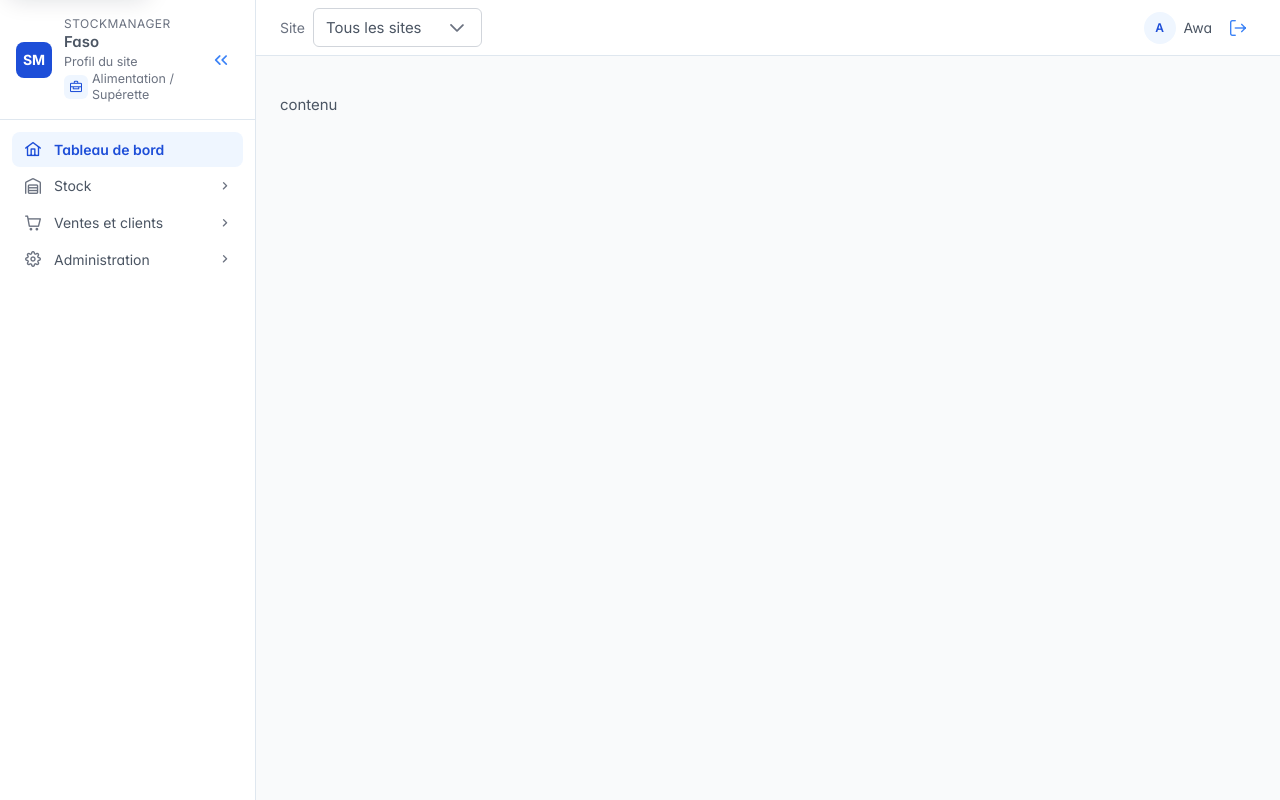
Test: barre latérale par rubriques › 6–7. mode compact et mode développé : bascule en haut de la barre
Click the button named "Réduire le menu".
click(221, 60)  # box [203,42,239,78]
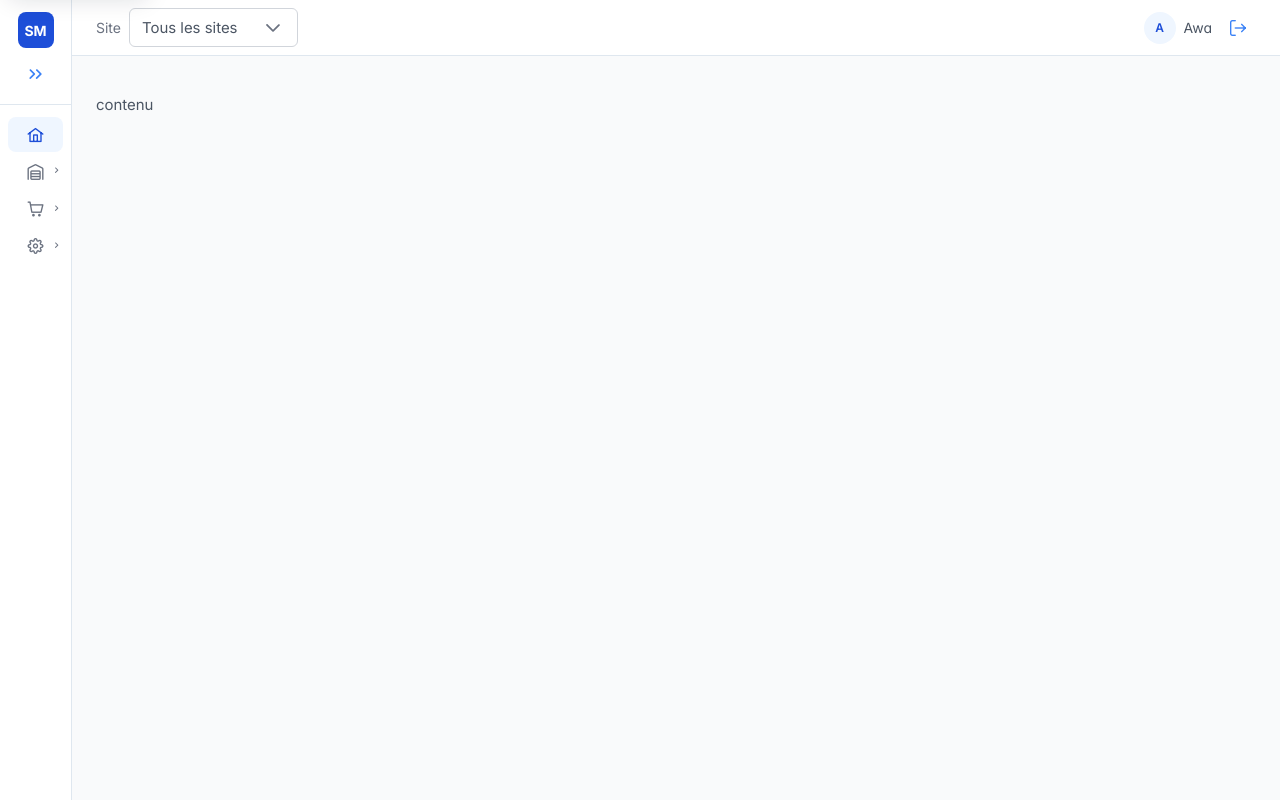
Result: the element with class "sm-shell" has class "sm-sidebar-compact"
Hover over the 2nd list item.
mouse_move(36, 172)  # box [8,154,63,189]
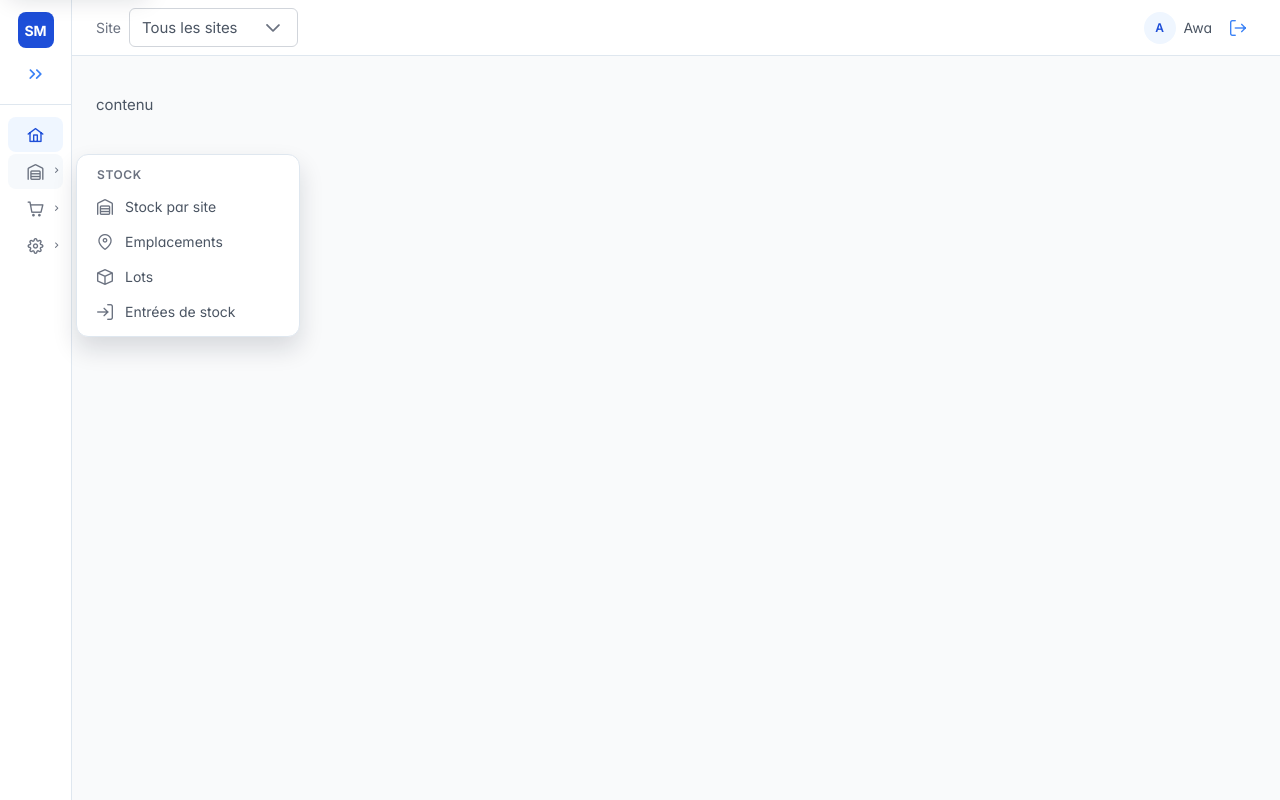
Result: the button named "Développer le menu" is collapsed
Click the button named "Développer le menu".
click(36, 74)  # box [18,56,54,92]
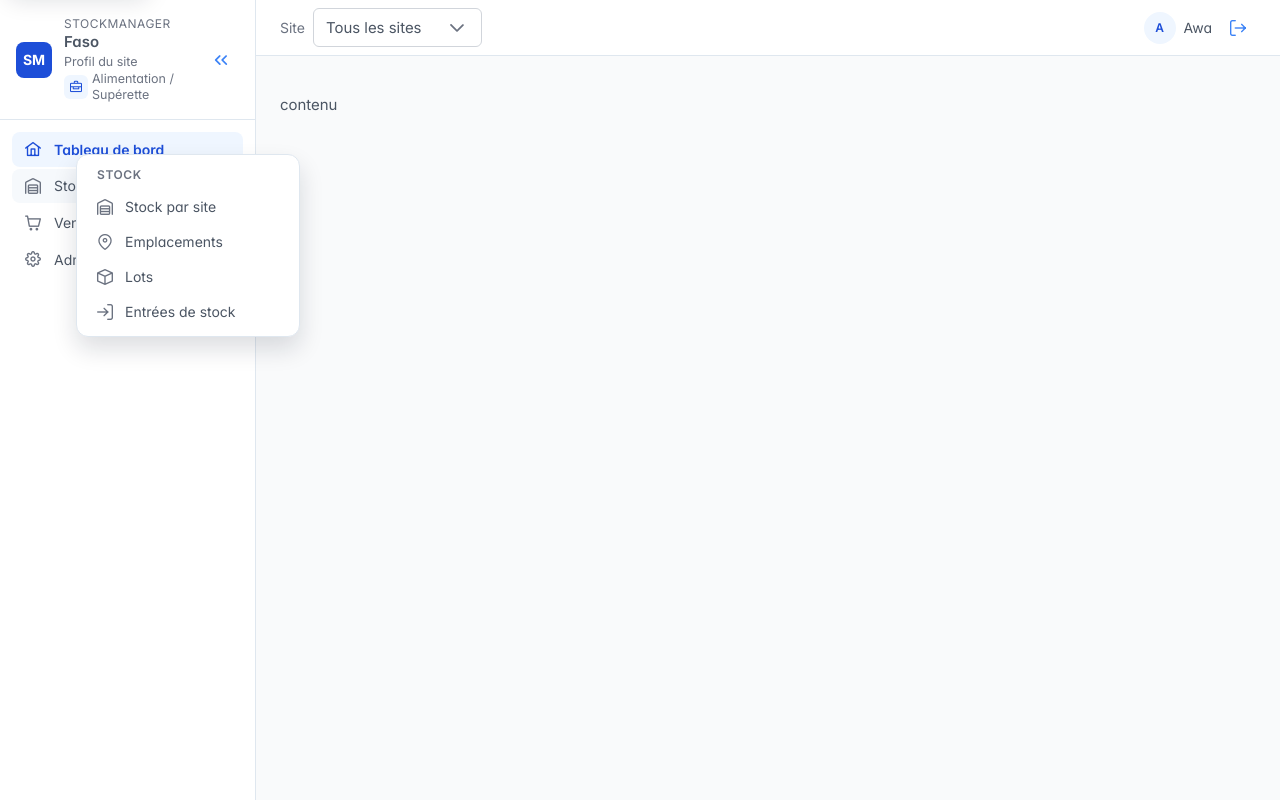
Result: the button named "Réduire le menu" is shown at [203,42,239,78]
